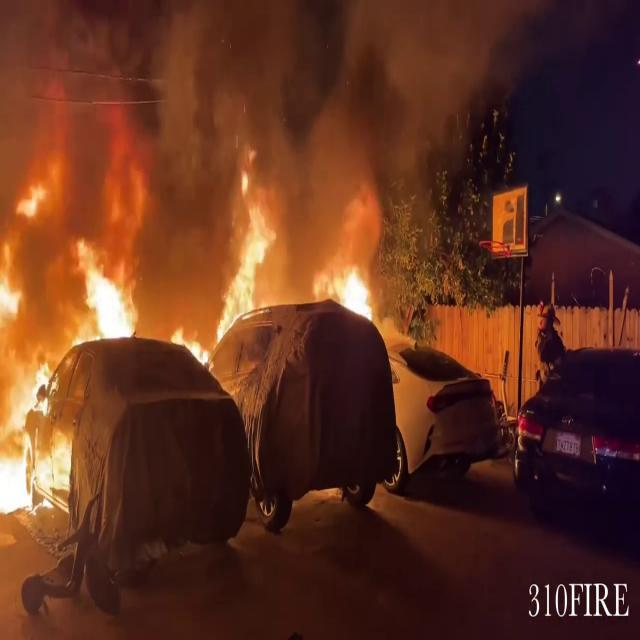Fire: (0, 168, 138, 520), (208, 166, 278, 337), (321, 258, 382, 330)
Smoke: (69, 0, 478, 289)
